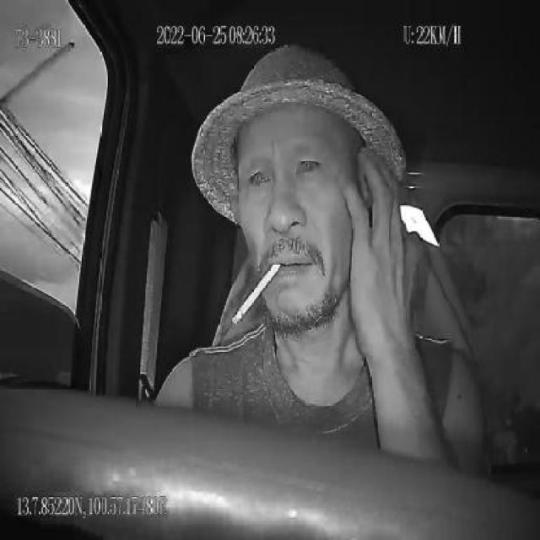smoking: (230, 258, 281, 328)
